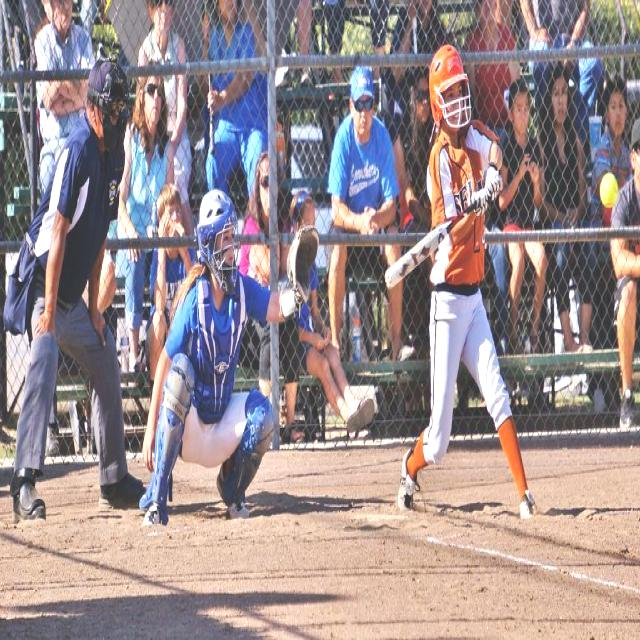baseball bat: (382, 200, 476, 288)
